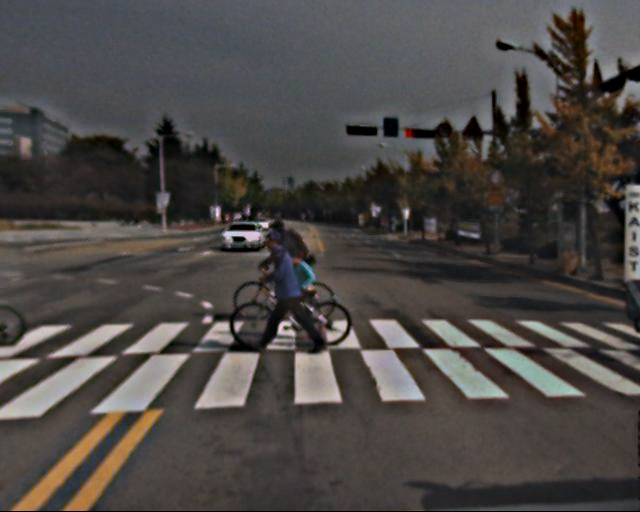person: (263, 215, 314, 332), (264, 233, 313, 351), (281, 240, 321, 329)
